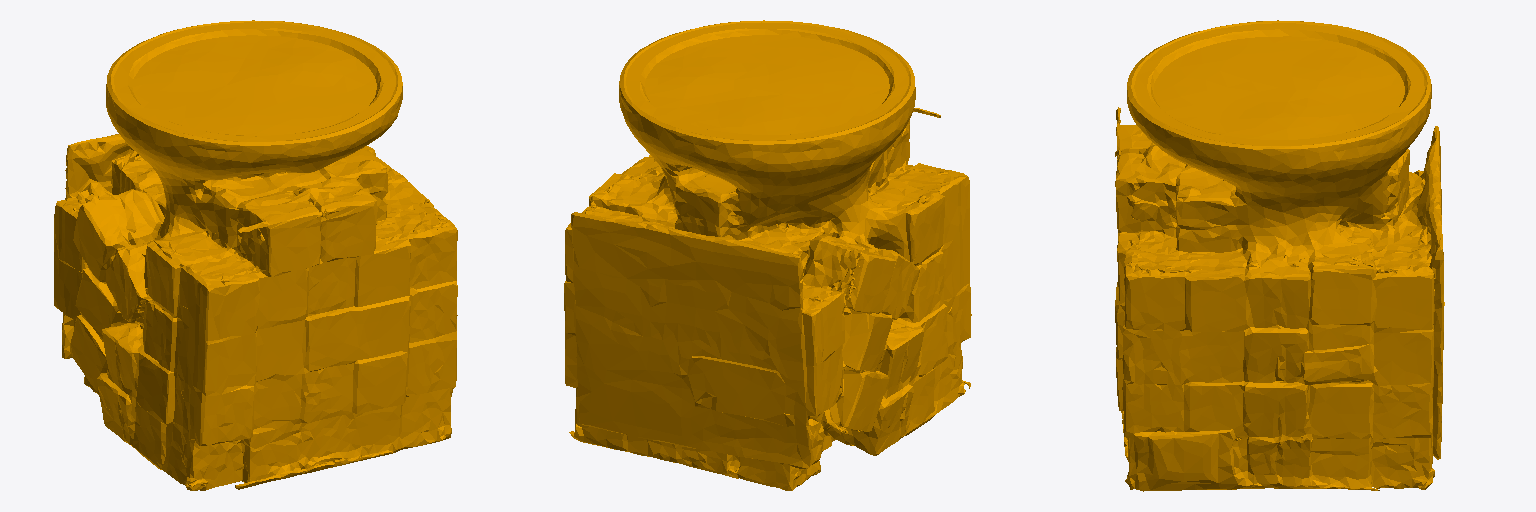
robot.urdf — 070-a_colored_wood_blocks:
<?xml version="1.0"?>
<robot name="070-a_colored_wood_blocks">
  <link name="base_link">
    <inertial>
      <mass value="0.2" />
      <origin xyz="0 0 0" />
      <inertia  ixx="0.0002" ixy="0.0"  ixz="0.0"  iyy="0.0002"  iyz="0.0" izz="0.0002" />
    </inertial>
    <visual>
      <geometry>
        <mesh filename="../../meshes/ycb_video_models/centered/070-a_colored_wood_blocks/textured.obj" />
      </geometry>
    </visual>
    <collision>
      <geometry>
        <mesh filename="../../meshes/ycb_video_models/centered/070-a_colored_wood_blocks/textured.obj" />
      </geometry>
    </collision>
  </link>
</robot>

--- Render facts (derived) ---
3 views of the same robot in one strip: view 1: azimuth 30°, elevation 25°; view 2: azimuth 150°, elevation 25°; view 3: azimuth 270°, elevation 25° (orthographic).
Robot: 070-a_colored_wood_blocks — 1 links, 0 joints (none); root link base_link; default pose: every joint at zero.
Links seen in each view (by area): view 1: base_link; view 2: base_link; view 3: base_link.
Boxes of the visible links, x1=… form: base_link: x1=54, y1=20, x2=457, y2=490; base_link: x1=564, y1=20, x2=971, y2=490; base_link: x1=1115, y1=20, x2=1444, y2=491.
Bounding box of the posed robot: 0.1421 × 0.1412 × 0.1654 m (x, y, z).
1 mesh visuals loaded from 1 distinct referenced files (1 OBJ).